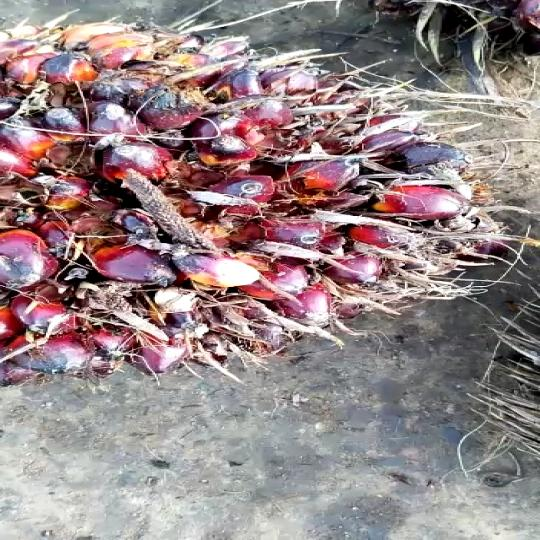masak: (0, 16, 506, 389)
